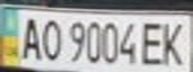0: (84, 18, 106, 65), (103, 18, 121, 65)
4: (118, 18, 142, 66)
9: (63, 17, 87, 63)
A: (15, 12, 45, 61)
E: (139, 18, 169, 68)
K: (157, 18, 190, 68)
O: (36, 16, 63, 62)
